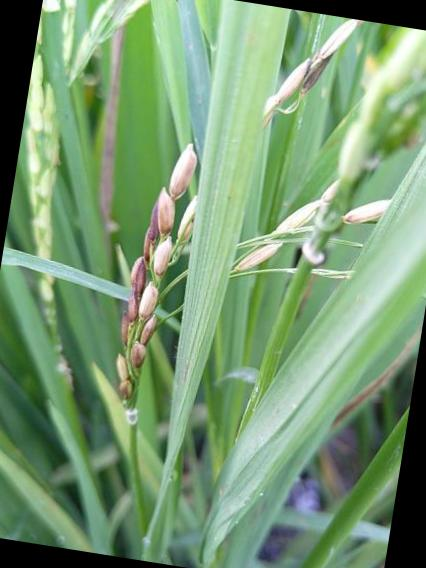Panicle Blight: (115, 146, 196, 400), (262, 18, 366, 128), (342, 200, 389, 224)
